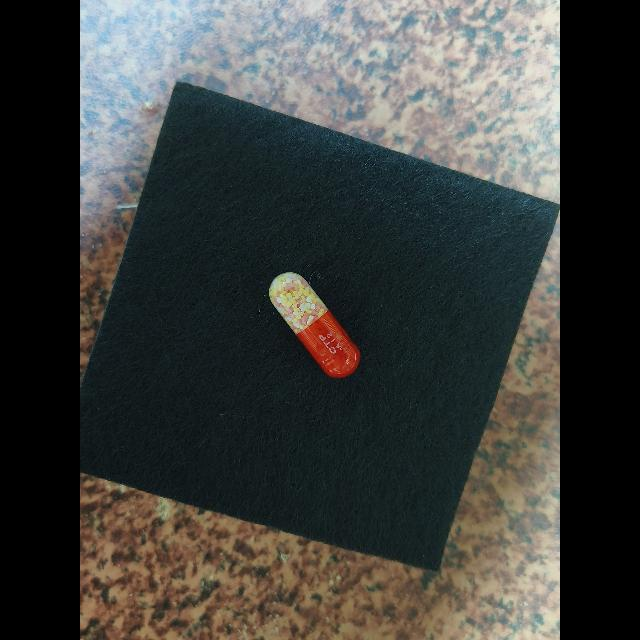Intact Capsule: (269, 272, 360, 378)
